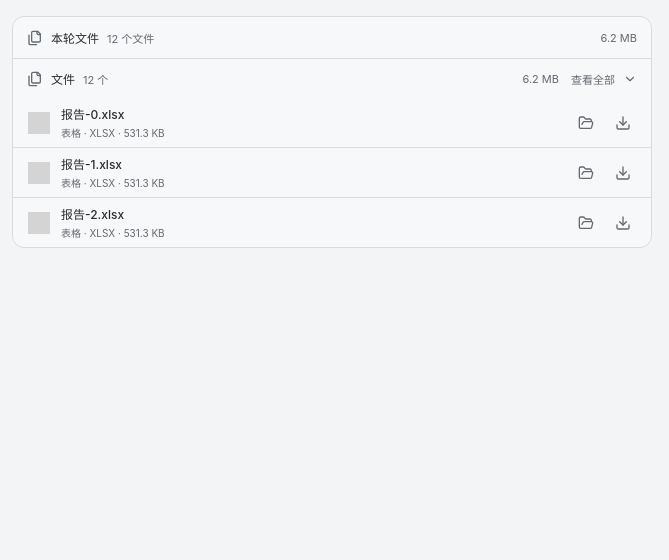
Test: keeps small deliveries visible and limits the default preview of a large document group
Expected: the number of elements with class "artifact-file" is 3, [13, 98, 651, 147]; [13, 147, 651, 197]; [13, 197, 651, 247]
Click the button with aria-label "展开文件" at (541, 78), box [13, 59, 651, 98]
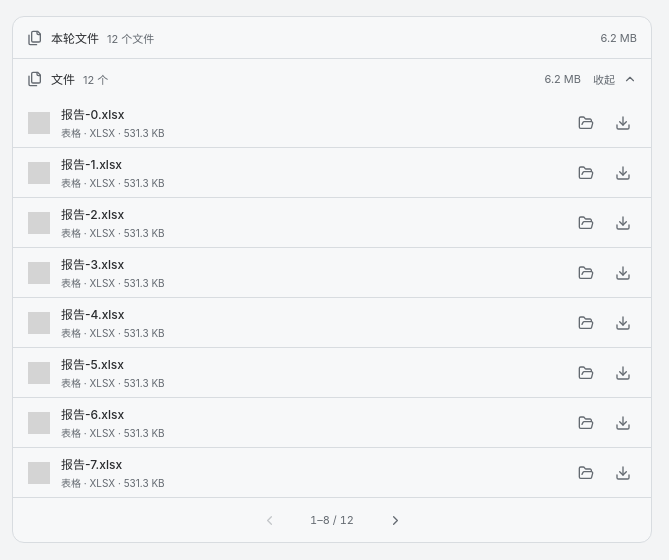
Expected: the number of elements with class "artifact-file" is 8
Expected: the text "1–8 / 12" is shown, [310, 513, 354, 527]
Click the button named "下一页文件" at (395, 520), box [379, 504, 411, 536]
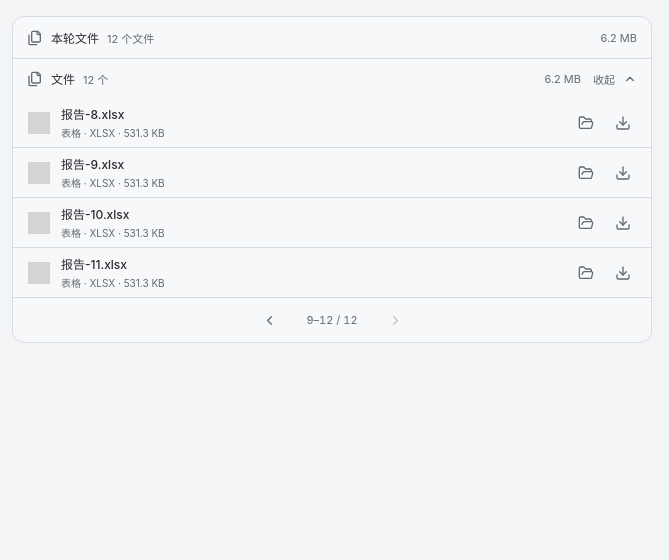
Expected: the button named "下一页文件" is disabled, [379, 304, 411, 336]
Expected: the number of elements with class "artifact-file" is 4, [13, 98, 651, 147]; [13, 147, 651, 197]; [13, 197, 651, 247]; [13, 247, 651, 297]
